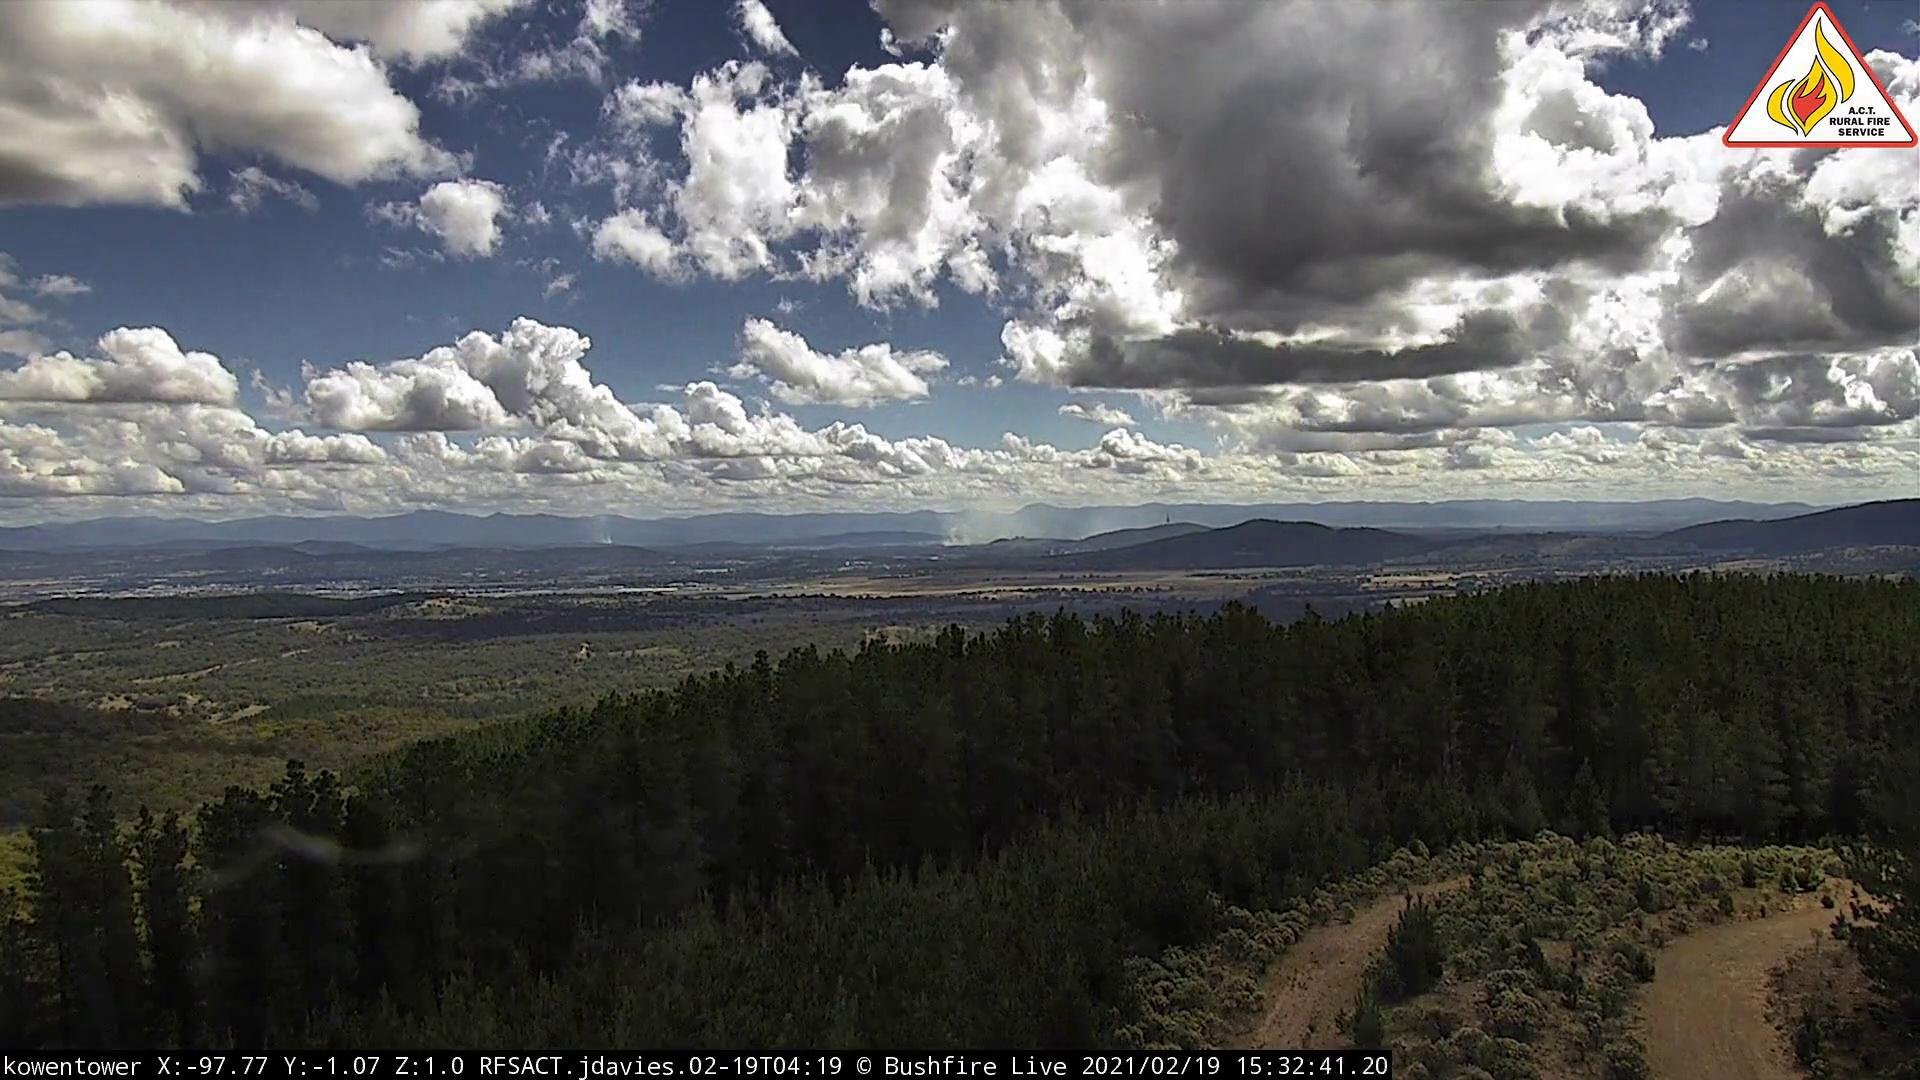Smoke: (939, 495, 1056, 550), (603, 526, 622, 551)
